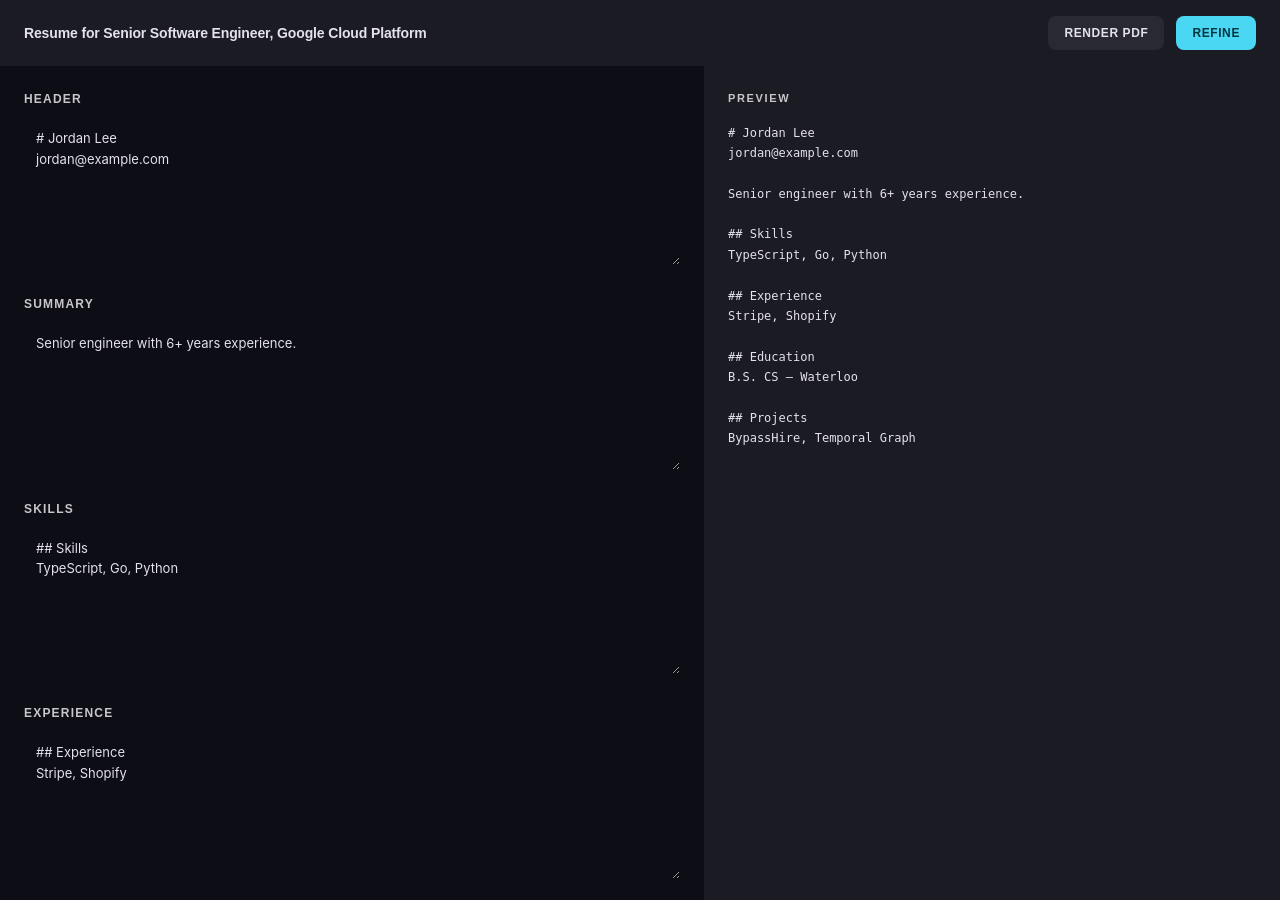
TailorPage › PDF Render button opens /api/resumes/[id]/pdf in a new tab and shows status
The width and height of the screenshot is (1280, 900).
Expected: the text box labelled "Summary" is shown, x1=24 y1=321 x2=680 y2=470
Click the button "Render PDF".
click(1106, 33)  # box x1=1048 y1=16 x2=1164 y2=50
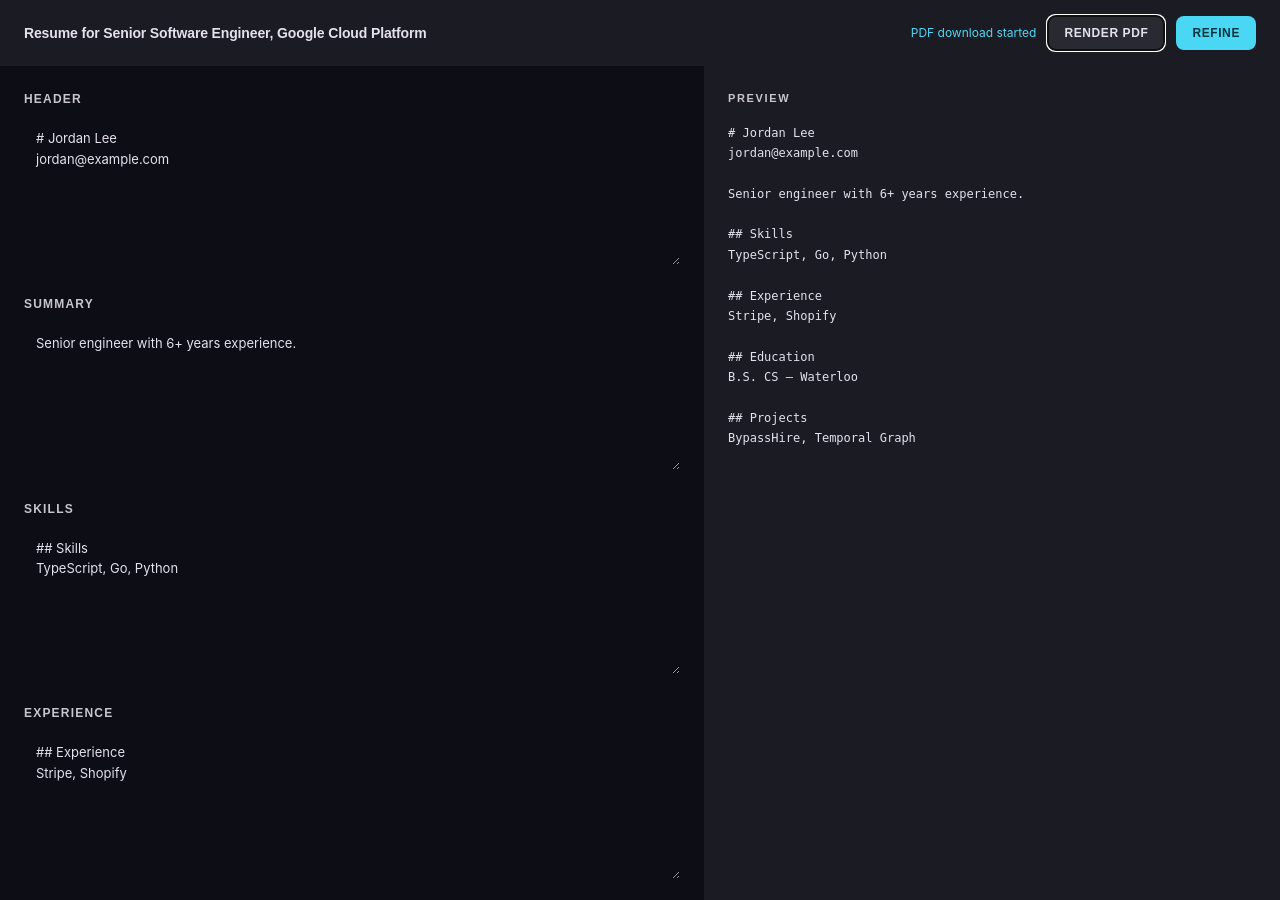
Expected: the text "PDF download started" is shown, x1=911 y1=24 x2=1036 y2=42
